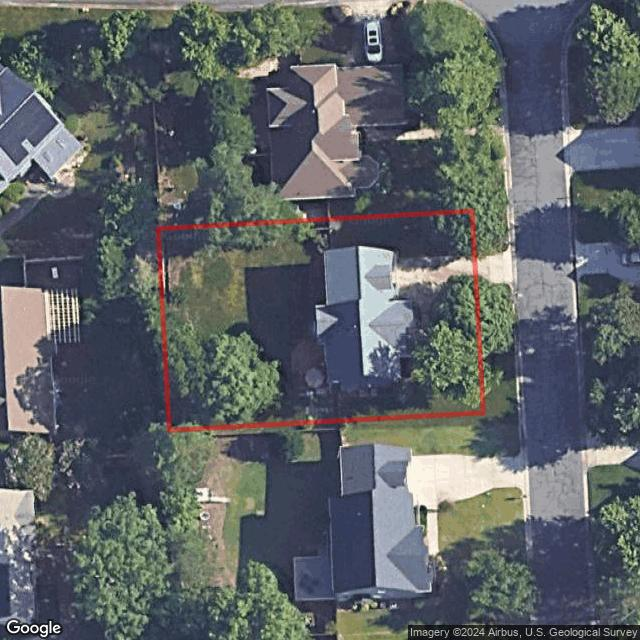Driveway: (393, 256, 477, 297)
Extra-Driveway: (473, 252, 510, 287)
Extra-Lawn: (478, 285, 517, 412), (472, 208, 508, 255)
House: (314, 244, 414, 387)
Lawn: (158, 210, 484, 431)
Other: (291, 323, 330, 421), (342, 387, 396, 398)
Sidewalk: (401, 296, 433, 373)
